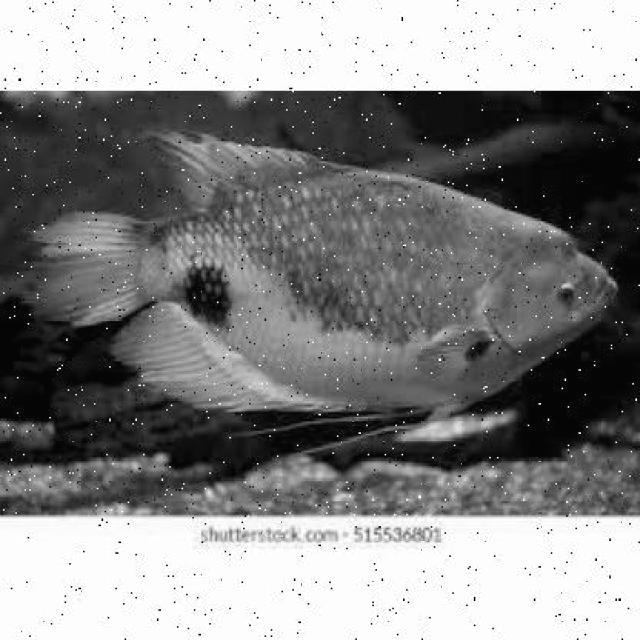gurame: (39, 146, 638, 432)
